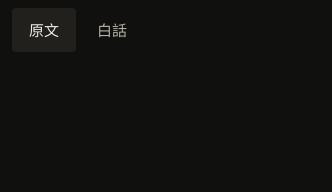
LinePlain › 預設收合時不載入，切到白話才載入；切回原文就隱藏
What coordinates should you click on to do the following:
click the button "白話"
I would click on:
 (112, 30)
Its box is [80,8,144,52].
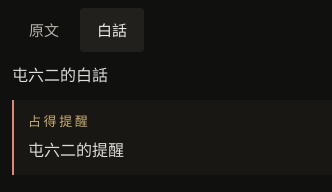
Check: the text "屯六二的白話" is shown, box [12,64,108,86]
What coordinates should you click on to do the following:
click the button "原文"
I would click on:
 (44, 30)
Its box is [12,8,76,52].
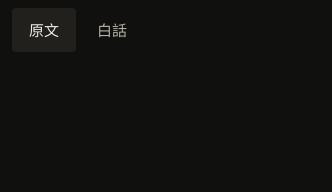
Check: the text "屯六二的白話" is gone
